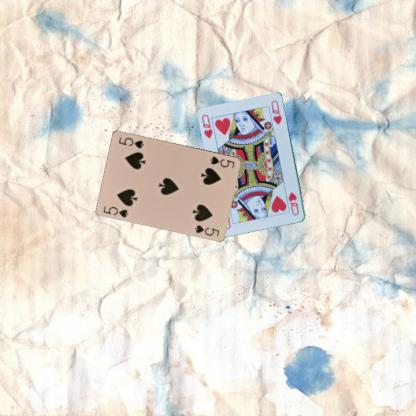5s: (101, 204, 130, 218), (208, 154, 236, 168)
Qh: (199, 112, 214, 140), (286, 190, 300, 216)
